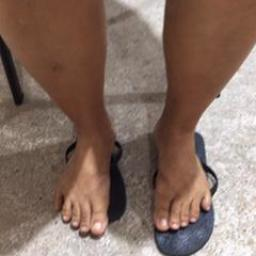Dorsal View -Both Feet-: (48, 108, 218, 239)
